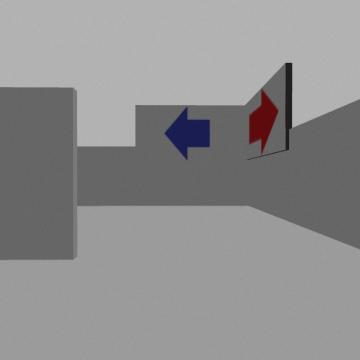blue_left: (165, 108, 209, 159)
red_right: (249, 88, 278, 154)
